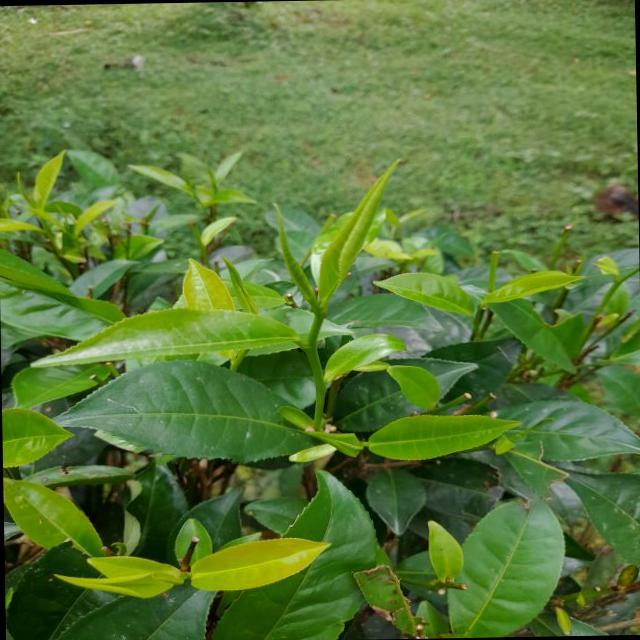Stem: (307, 340, 316, 358)
